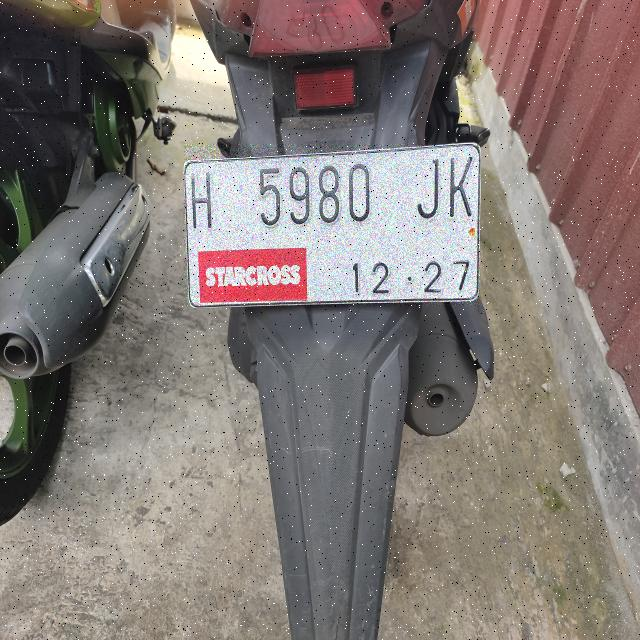plate: (185, 144, 479, 305)
